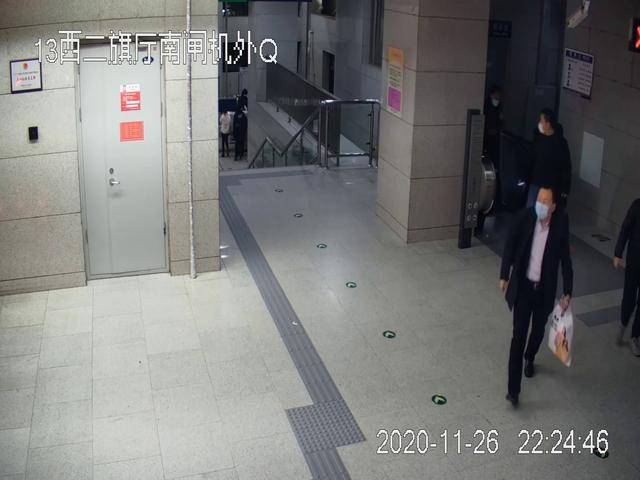person: (497, 180, 576, 408)
